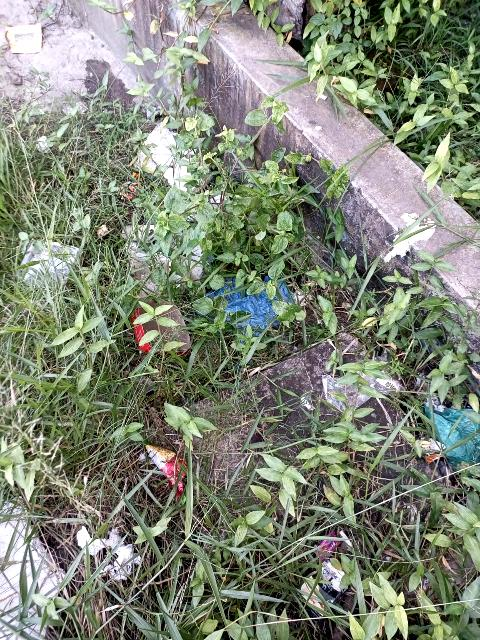polythene: (187, 252, 309, 357)
